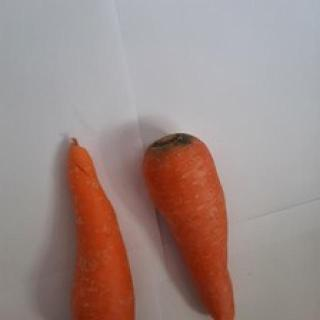carrot: (51, 131, 142, 320), (144, 132, 233, 320)
